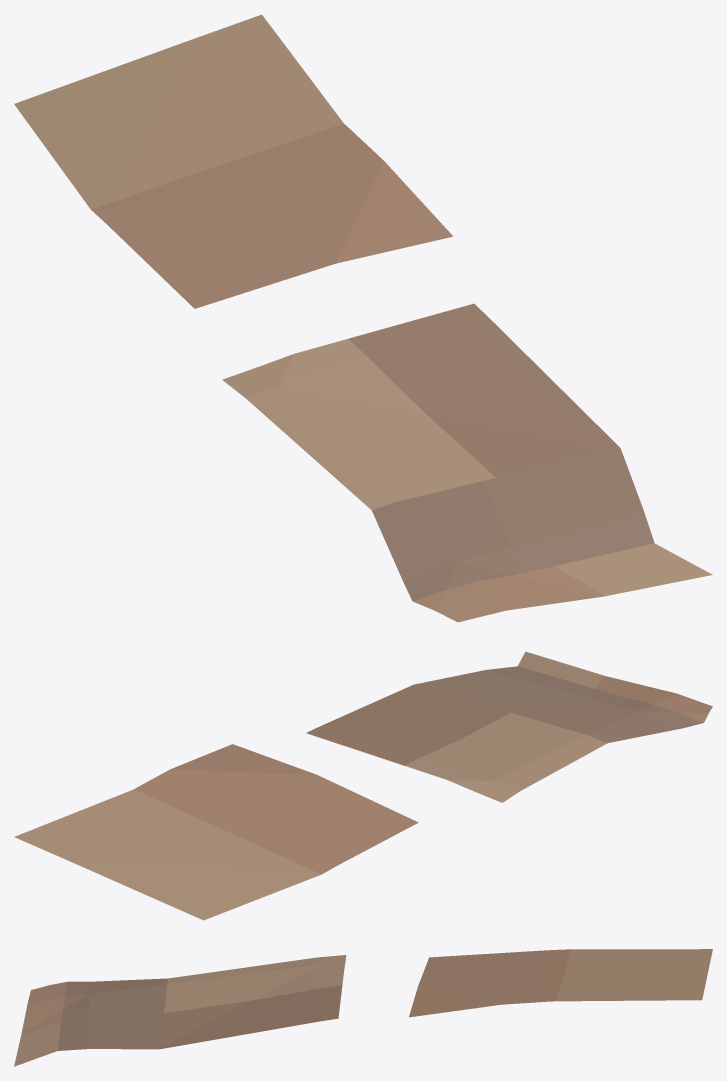
The model's file is farm_9_23_soil.glb.
The picture shows the model from 3 angles, top to bottom: view 1: azimuth 30°, elevation 25°; view 2: azimuth 150°, elevation 25°; view 3: azimuth 270°, elevation 25°; orthographic projection. The views are drawn at different scales.
Parts seen in each view (by area): view 1: geometry_0; view 2: geometry_0; view 3: geometry_0.
Boxes of the visible parts, left/top/right/bottom form: geometry_0: left=14, top=14, right=712, bottom=622; geometry_0: left=14, top=651, right=712, bottom=920; geometry_0: left=14, top=949, right=712, bottom=1066.
Bounding box in the file's own units: 89.08 × 36.16 × 244.
